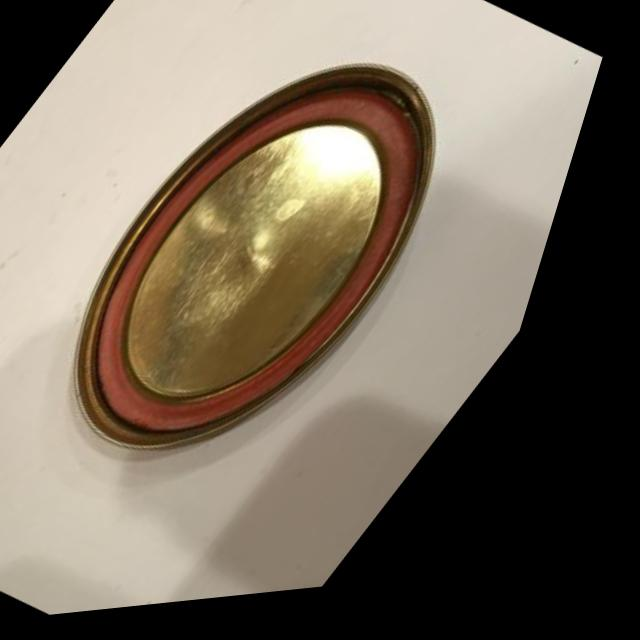metal: (0, 0, 621, 555)
